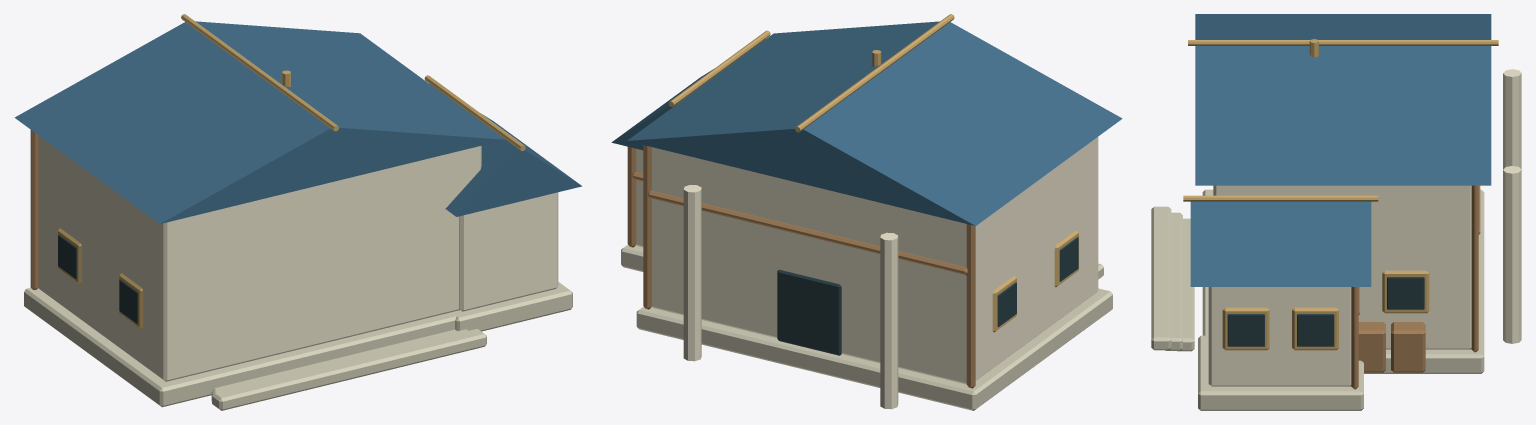
Rendered from level_23.glb.
The picture shows the model from 3 angles, left to right: view 1: azimuth 30°, elevation 25°; view 2: azimuth 150°, elevation 25°; view 3: azimuth 270°, elevation 25°; orthographic projection.
Visible parts, largest first — view 1: warehouse — level 23; view 2: warehouse — level 23; view 3: warehouse — level 23.
Boxes of the visible parts, x1,y1,x2,y2 form: warehouse — level 23: (14,14,581,410); warehouse — level 23: (611,14,1122,410); warehouse — level 23: (1151,14,1521,410).
Size of the model in its own units: 6.84 by 3.92 by 5.13.
